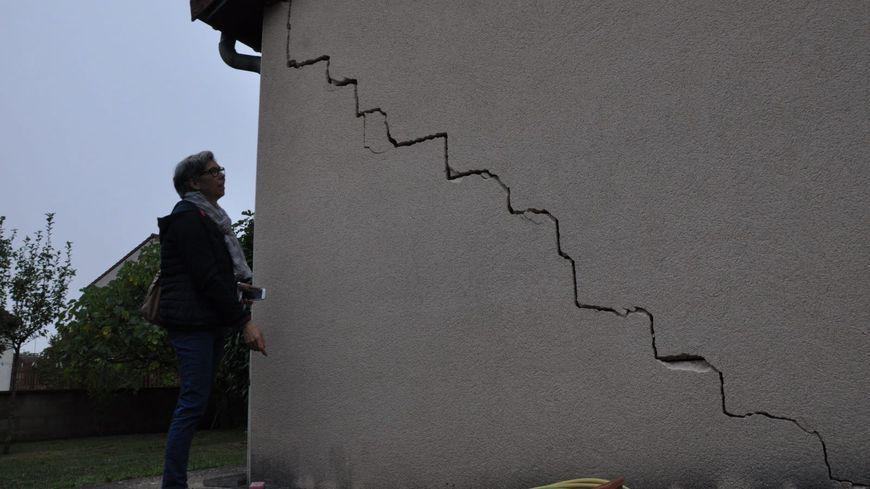crack: (286, 0, 870, 489)
